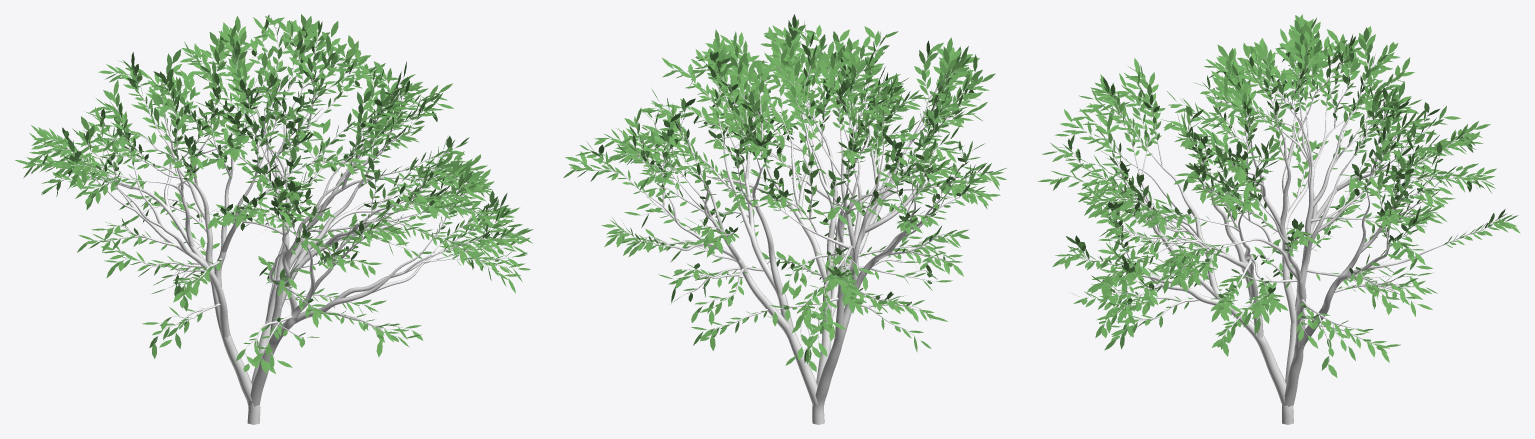
File: tree-50.gltf
3 renders of one model, left to right at view 1: azimuth 30°, elevation 25°; view 2: azimuth 150°, elevation 25°; view 3: azimuth 270°, elevation 25°, orthographic.
Parts seen in each view (by area): view 1: tree-50; view 2: tree-50; view 3: tree-50.
Part boxes in pixels (x1,y1,x2,y2): tree-50: (15, 14, 533, 424); tree-50: (563, 14, 1006, 424); tree-50: (1037, 14, 1520, 424).
Size of the model in its own units: 7.54 by 6.58 by 7.9.
